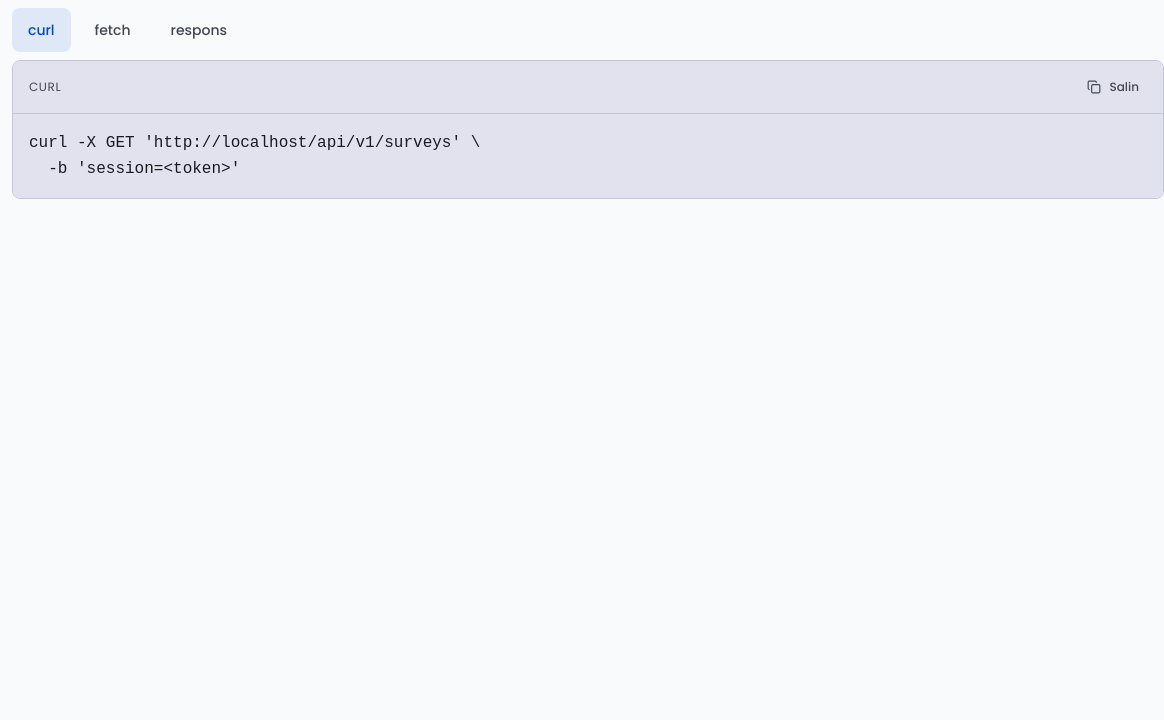
it: TabSnippet › menampilkan contoh berhasil dan gagal sekaligus
Step 1. Click the button "respons" → {"x": 199, "y": 30}, box left=154, top=8, right=243, bottom=52
(page scrolled)
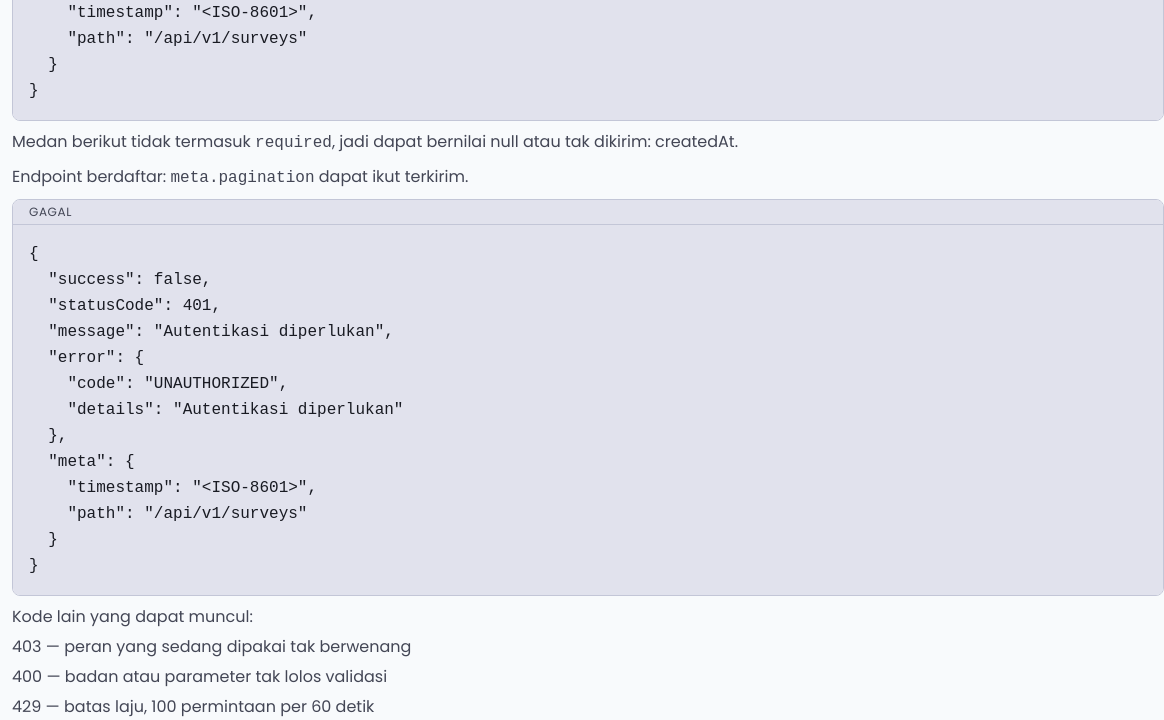
Expected: the element with test id "contoh-gagal" shows "\"success\": false", left=29, top=245, right=404, bottom=575
Expected: the element with test id "contoh-gagal" shows "UNAUTHORIZED", left=29, top=245, right=404, bottom=575
